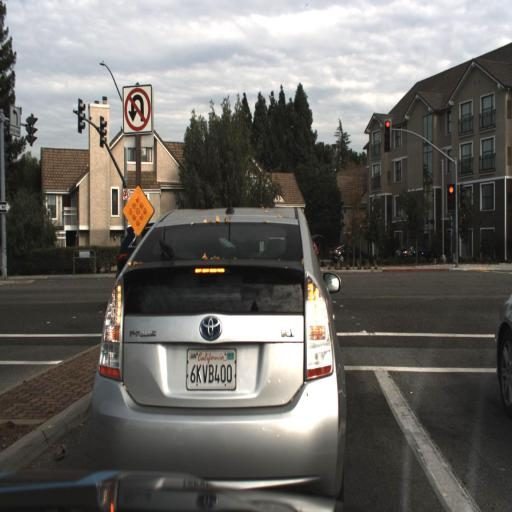car: (85, 195, 346, 490), (486, 259, 511, 435), (324, 238, 361, 274), (391, 236, 420, 265), (327, 241, 355, 265)
trafficLight-Red: (380, 111, 394, 155), (446, 181, 457, 213)
